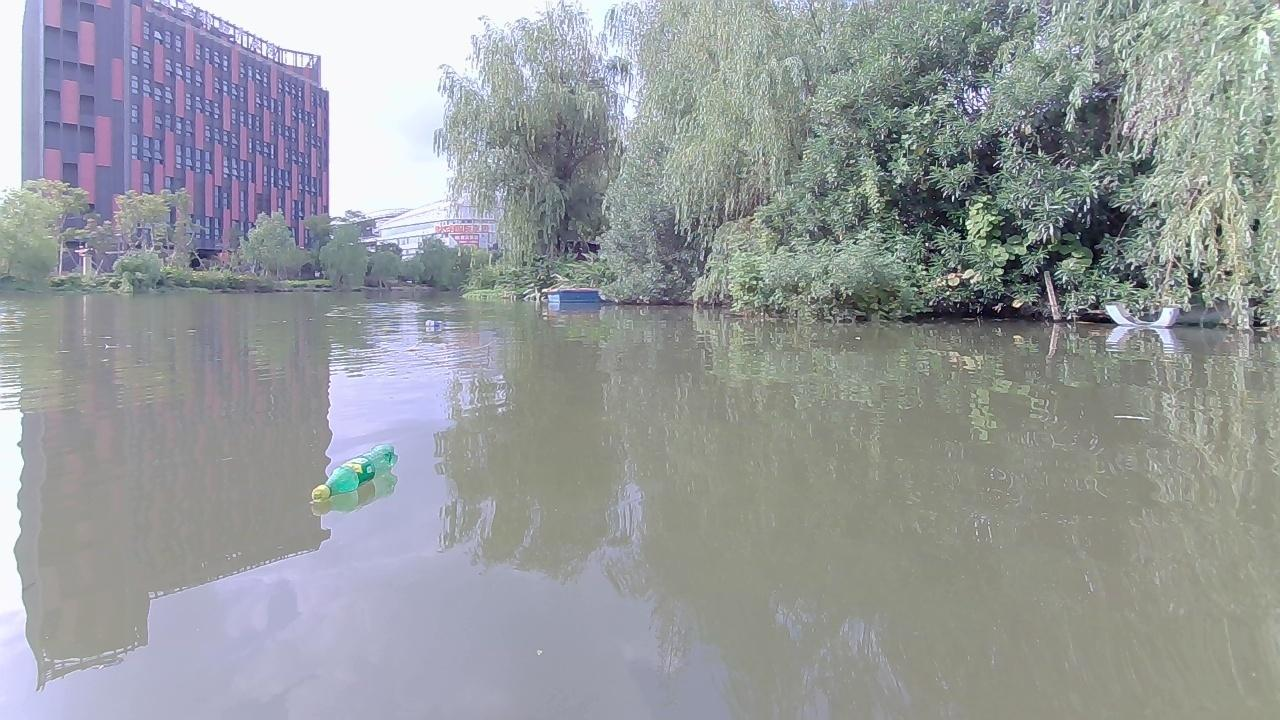bottle: (309, 433, 397, 496), (423, 315, 442, 337)
